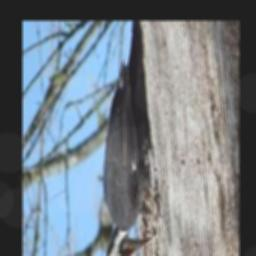Woodpecker: (96, 62, 153, 256)
